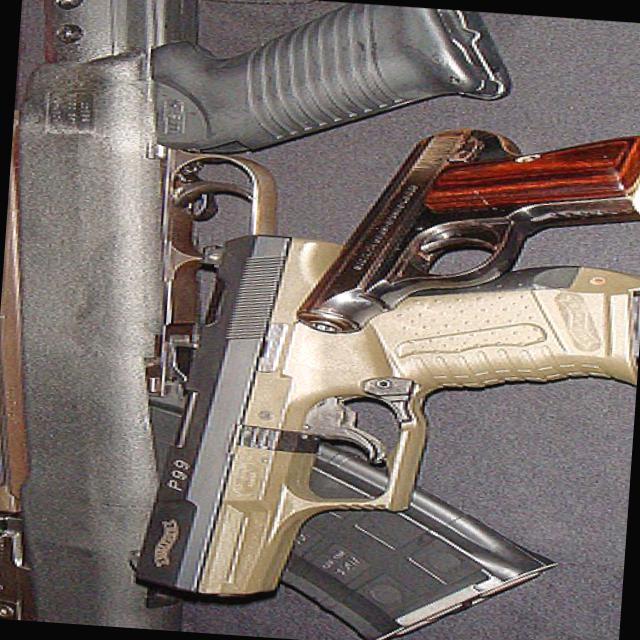handgun: (117, 225, 639, 626), (290, 112, 639, 355)
